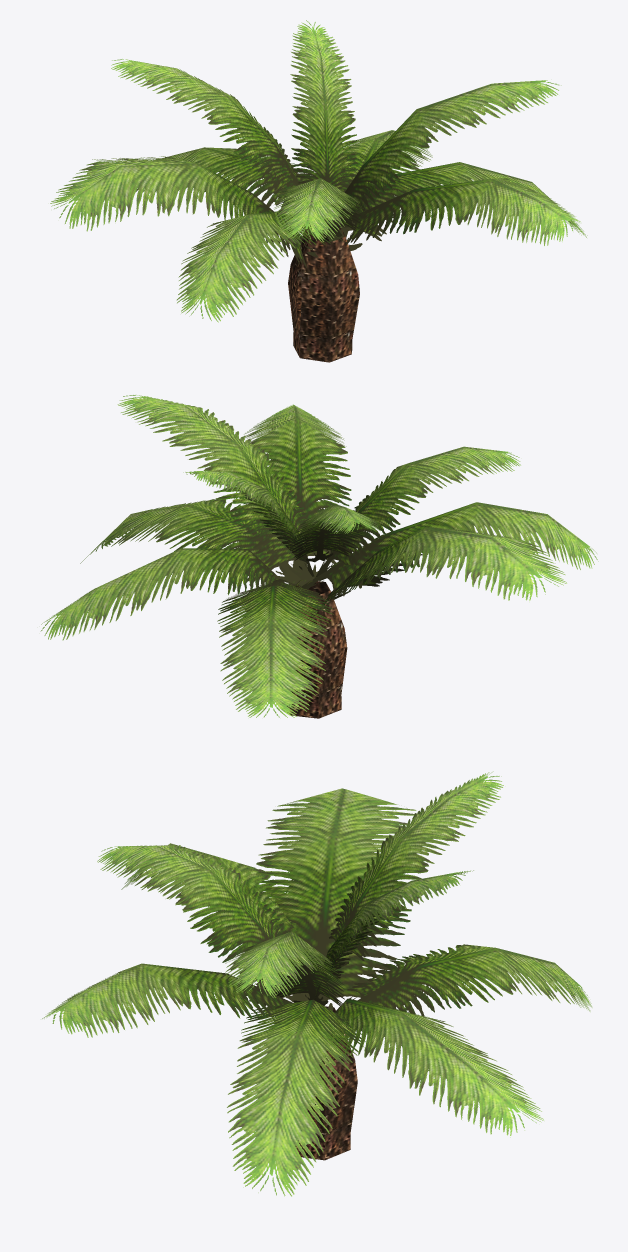
Rendered from tree_b.FBX.
The picture shows the model from 3 angles, top to bottom: view 1: azimuth 30°, elevation 25°; view 2: azimuth 150°, elevation 25°; view 3: azimuth 270°, elevation 25°; orthographic projection. The views are drawn at different scales.
Parts seen in each view (by area): view 1: tree_b; view 2: tree_b; view 3: tree_b.
Boxes of the visible parts, box(x1,y1,x2,y2) form: tree_b: box(50, 20, 587, 362); tree_b: box(40, 395, 598, 718); tree_b: box(42, 771, 592, 1196).
Size of the model in its own units: 3.49 by 1.69 by 2.98.
Materials: 2 (2 with a texture image).
